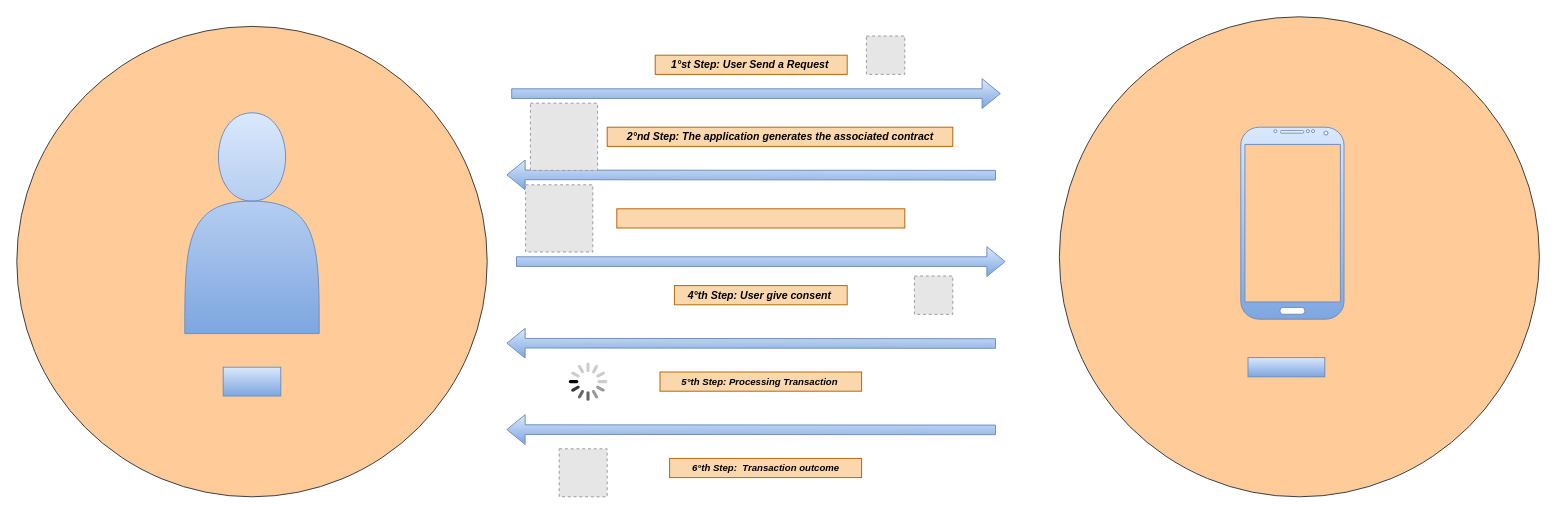
Some shapes in this 1556 by 514 pixel diagram are drawn without their labels. Grey dashed boxes stand in for pictures. Each missing label, with the centre of its shape:
"3°rd Step: Application waits for user confirmation" goes at [760,218].
"User" goes at [251,381].
"WebApp" goes at [1286,367].
